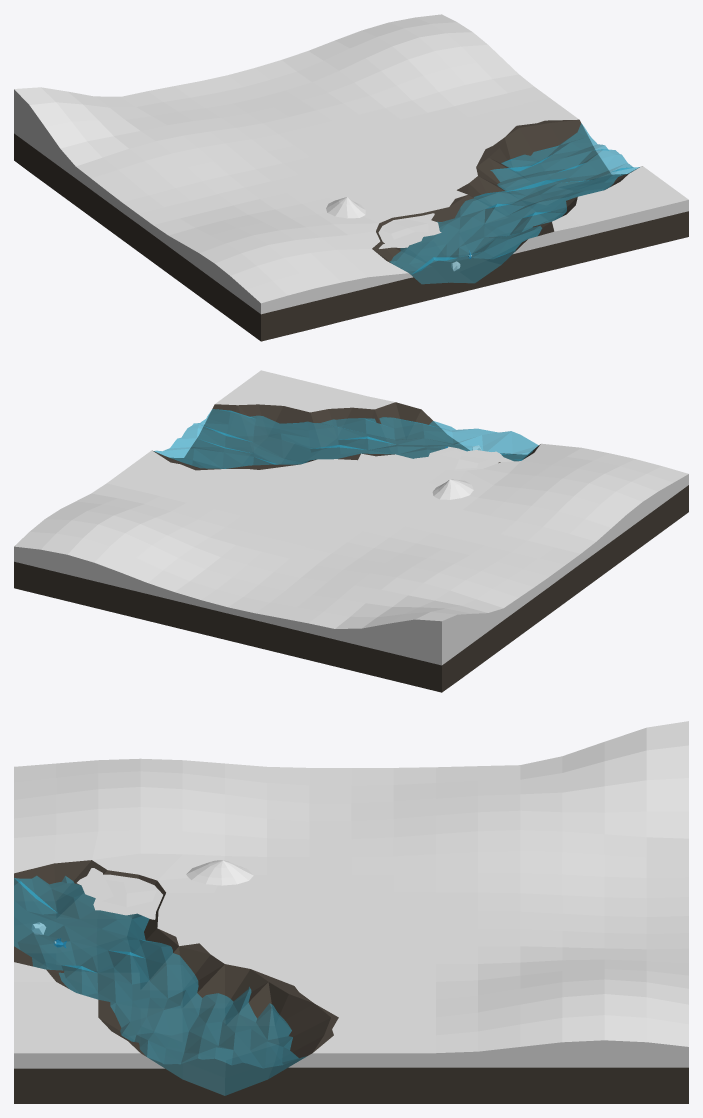
The model's file is ice_pond.fbx.
The picture shows the model from 3 angles, top to bottom: view 1: azimuth 30°, elevation 25°; view 2: azimuth 150°, elevation 25°; view 3: azimuth 270°, elevation 25°; orthographic projection. The views are drawn at different scales.
Visible parts, largest first — view 1: Plane.019; view 2: Plane.019; view 3: Plane.019.
Part boxes in pixels (x1,y1,x2,y2): Plane.019: (14, 14, 688, 341); Plane.019: (14, 370, 688, 692); Plane.019: (14, 721, 688, 1103).
Size of the model in its own units: 6541 by 1047 by 6540.
